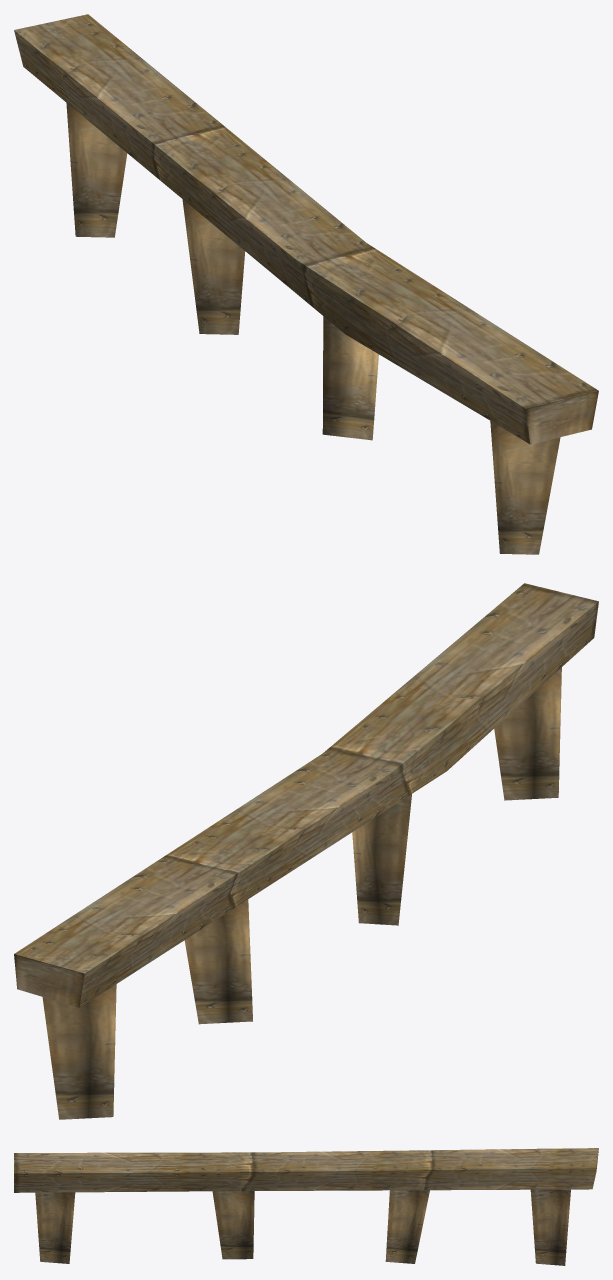
File: rail_wooden01.obj
3 renders of one model, top to bottom at view 1: azimuth 30°, elevation 25°; view 2: azimuth 150°, elevation 25°; view 3: azimuth 270°, elevation 25°, orthographic. The views are drawn at different scales.
Parts seen in each view (by area): view 1: RAIL_WOODEN010; view 2: RAIL_WOODEN010; view 3: RAIL_WOODEN010.
Boxes of the visible parts, x1=… form: RAIL_WOODEN010: x1=14, y1=14, x2=598, y2=554; RAIL_WOODEN010: x1=14, y1=583, x2=598, y2=1119; RAIL_WOODEN010: x1=14, y1=1148, x2=598, y2=1265.
Size of the model in its own units: 0.5366 by 1.03 by 5.33.
Materials: 1 (1 with a texture image).
